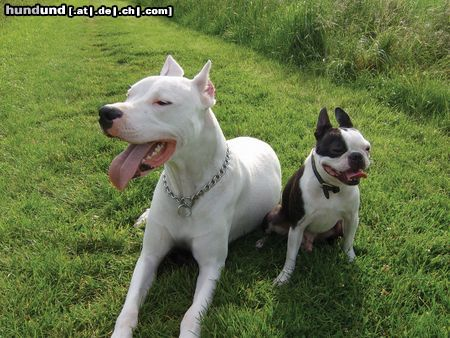dogo_argentino: (96, 54, 283, 338)
other_dog_breed: (254, 105, 371, 286)
